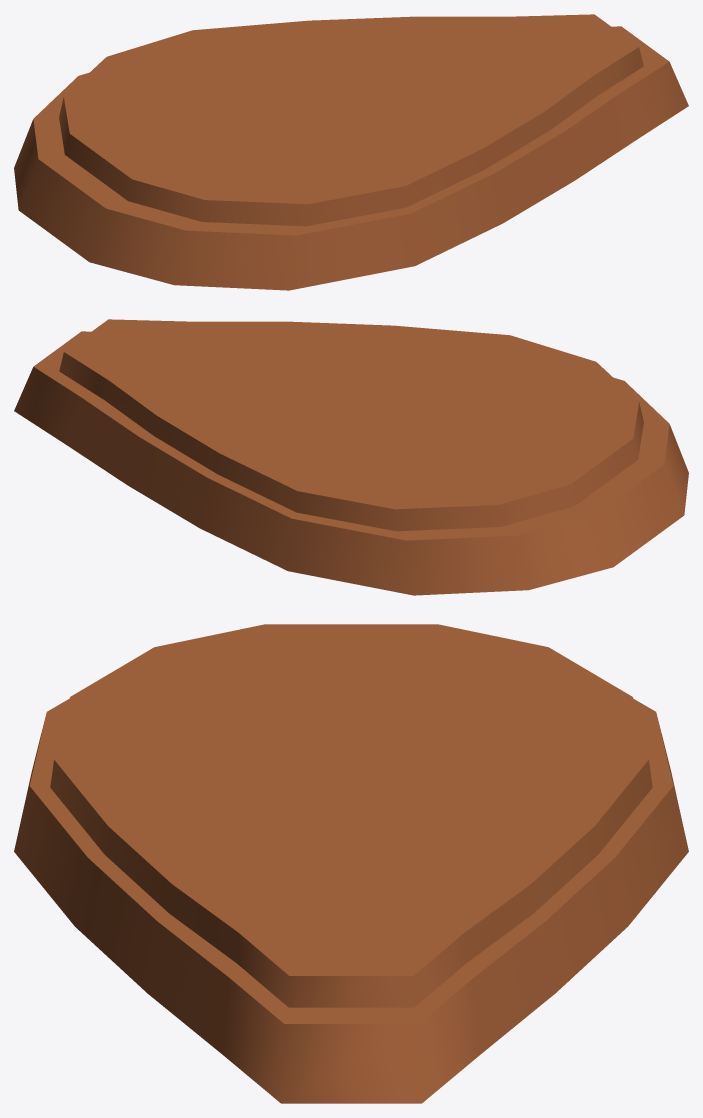
The model's file is Panther Base.fbx.
The picture shows the model from 3 angles, top to bottom: view 1: azimuth 30°, elevation 25°; view 2: azimuth 150°, elevation 25°; view 3: azimuth 270°, elevation 25°; orthographic projection. The views are drawn at different scales.
Visible parts, largest first — view 1: Panther_Base; view 2: Panther_Base; view 3: Panther_Base.
Boxes of the visible parts, left/top/right/bottom form: Panther_Base: left=14, top=14, right=688, bottom=290; Panther_Base: left=14, top=319, right=688, bottom=595; Panther_Base: left=14, top=624, right=688, bottom=1103.
Size of the model in its own units: 76.35 by 8.18 by 52.41.
